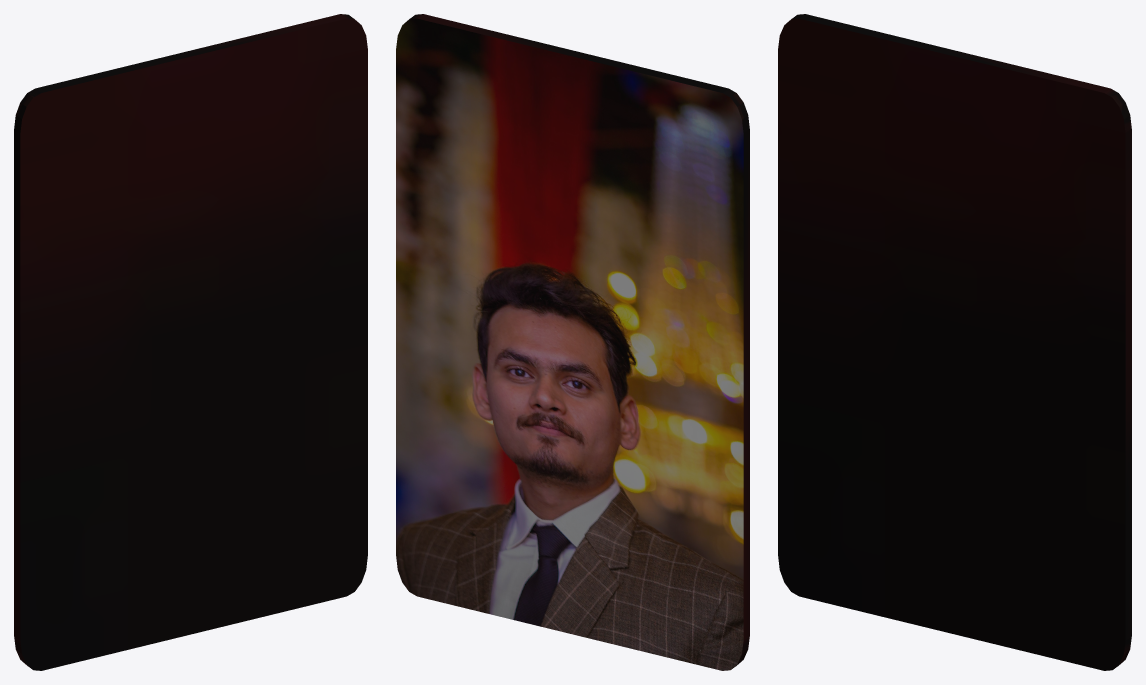
The model's file is ID-Card.glb.
The picture shows the model from 3 angles, left to right: view 1: azimuth 30°, elevation 25°; view 2: azimuth 150°, elevation 25°; view 3: azimuth 330°, elevation 25°; orthographic projection.
Parts seen in each view (by area): view 1: Cube; view 2: Cube; view 3: Cube.
Boxes of the visible parts, x1,y1,x2,y2 form: Cube: [14, 14, 367, 670]; Cube: [396, 14, 749, 670]; Cube: [778, 14, 1131, 670].
Size of the model in its own units: 1.64 by 2.61 by 0.0513.
1 material, 1 textured.
